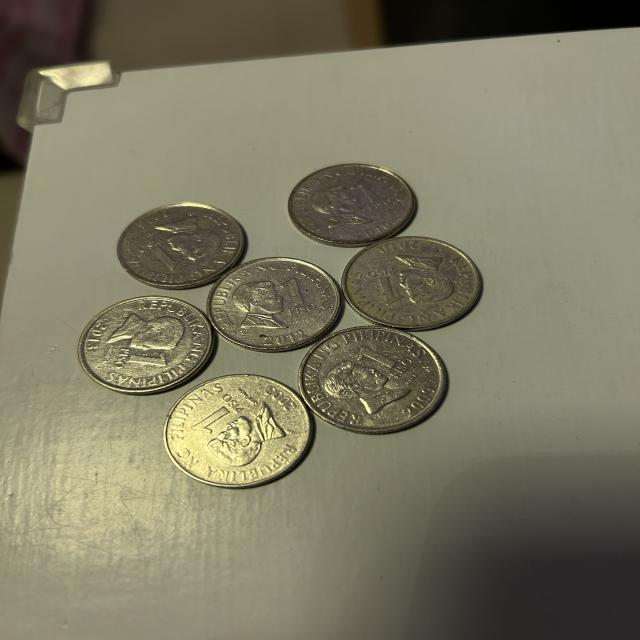1_Old_Front: (349, 335, 420, 388), (186, 392, 251, 436), (366, 269, 412, 317), (111, 343, 170, 380), (132, 236, 185, 275), (277, 280, 321, 326)
